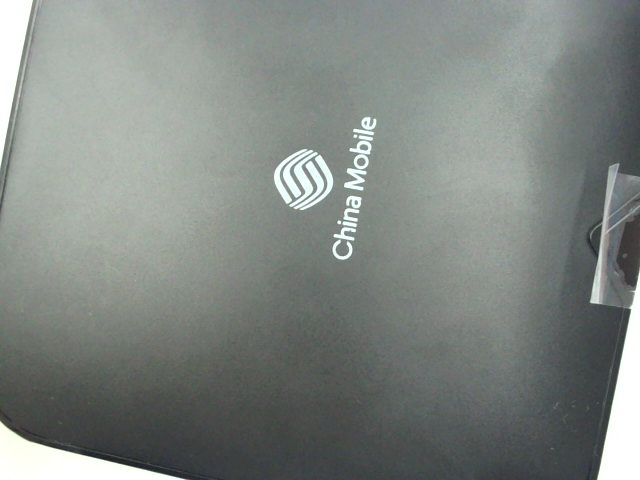AA_ChinaMobile: (269, 103, 395, 262)
